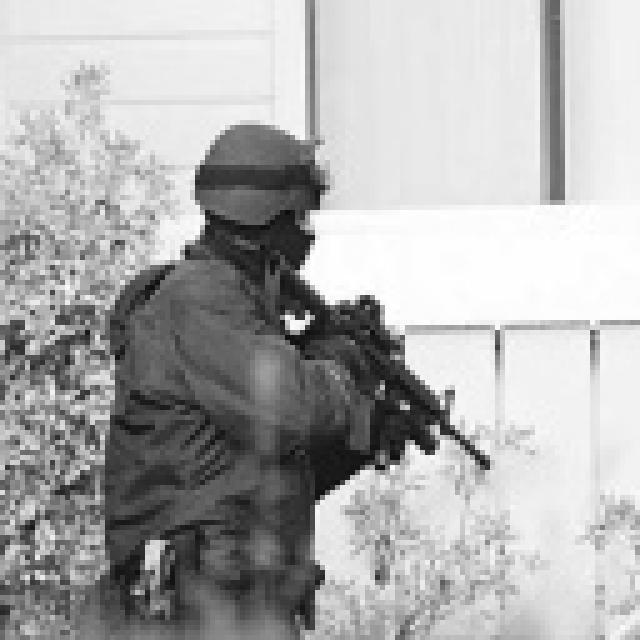Rifle: (210, 211, 529, 498)
